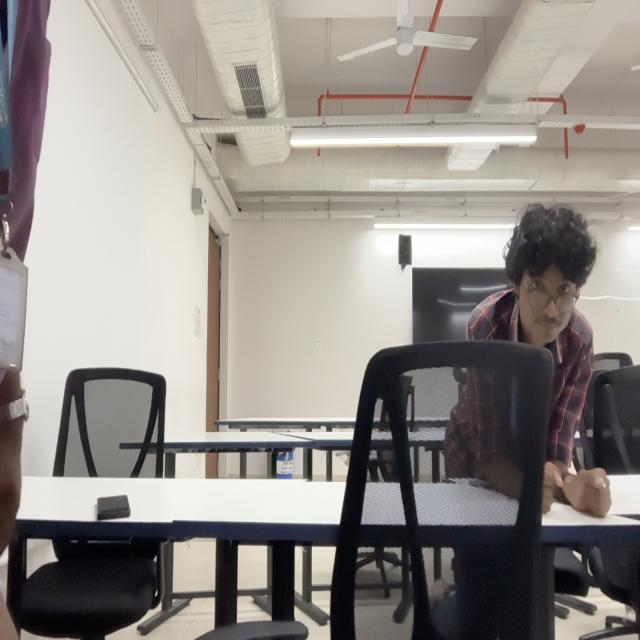darshan: (508, 198, 592, 342)
